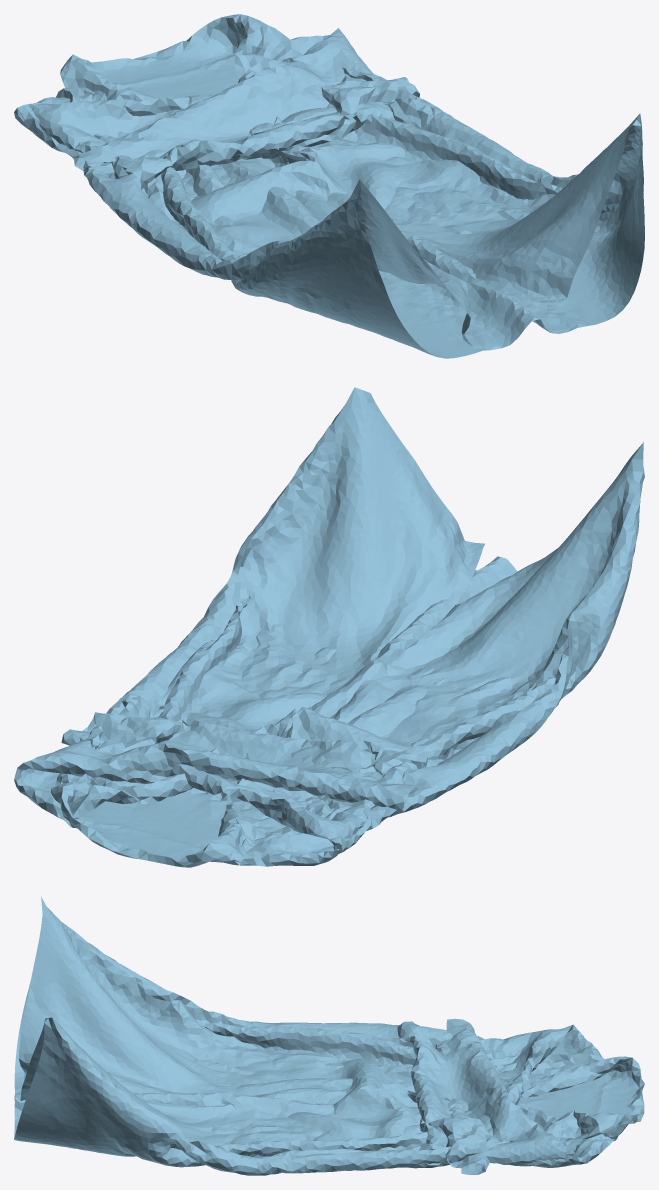
Rendered from frame_03.glb.
3 views of the same model, one above another, from view 1: azimuth 30°, elevation 25°; view 2: azimuth 150°, elevation 25°; view 3: azimuth 270°, elevation 25° (orthographic). The views are drawn at different scales.
Visible parts, largest first — view 1: frame_03.obj; view 2: frame_03.obj; view 3: frame_03.obj.
Part boxes in pixels (<box>): frame_03.obj: <box>14,14,644,358</box>; frame_03.obj: <box>14,387,644,867</box>; frame_03.obj: <box>14,896,644,1175</box>.
Bounding box in the file's own units: 0.9107 × 0.4505 × 1.67.
